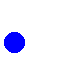circle: (4, 32, 24, 52)
